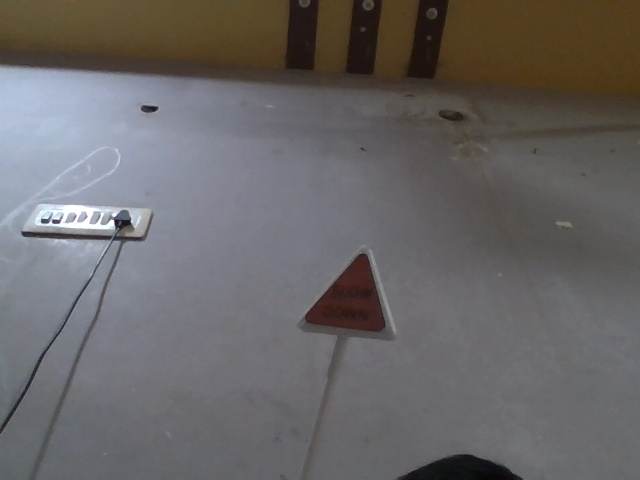slowdown: (300, 230, 412, 340)
